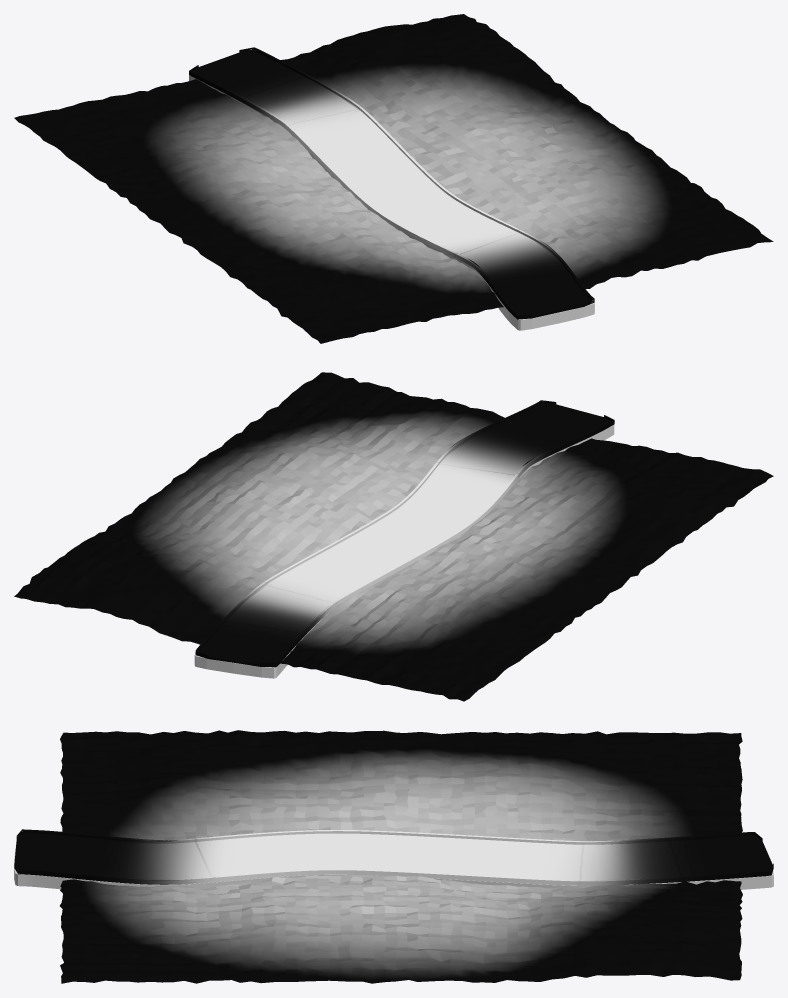
The model's file is testilevu.glb.
3 views of the same model, one above another, from view 1: azimuth 30°, elevation 25°; view 2: azimuth 150°, elevation 25°; view 3: azimuth 270°, elevation 25° (orthographic). The views are drawn at different scales.
Parts seen in each view (by area): view 1: Plane, Cube, Plane.001; view 2: Plane, Cube, Plane.001; view 3: Plane, Cube, Plane.001.
Part boxes in pixels (x1,y1,x2,y2): Plane: (14,14,773,343); Cube: (189,47,594,319); Plane.001: (189,75,594,330); Plane: (14,372,773,701); Cube: (195,400,614,667); Plane.001: (194,424,614,678); Plane: (60,730,742,983); Cube: (14,829,773,885); Plane.001: (14,841,773,889).
Bounding box in the file's own units: 15.13 × 0.8026 × 19.93.
2 materials, 2 textured.
